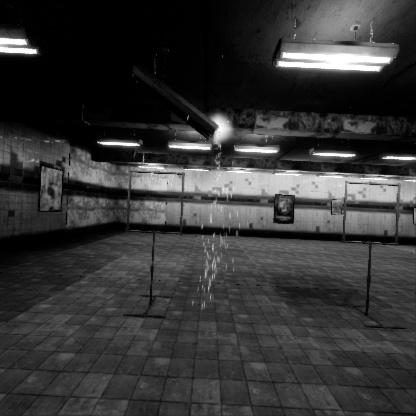gate: (126, 180, 190, 246), (342, 169, 406, 235)
